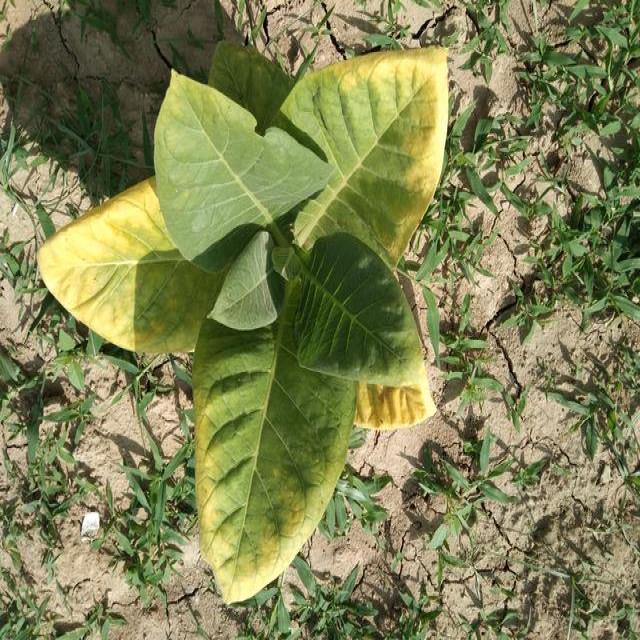crop: (25, 47, 456, 613)
